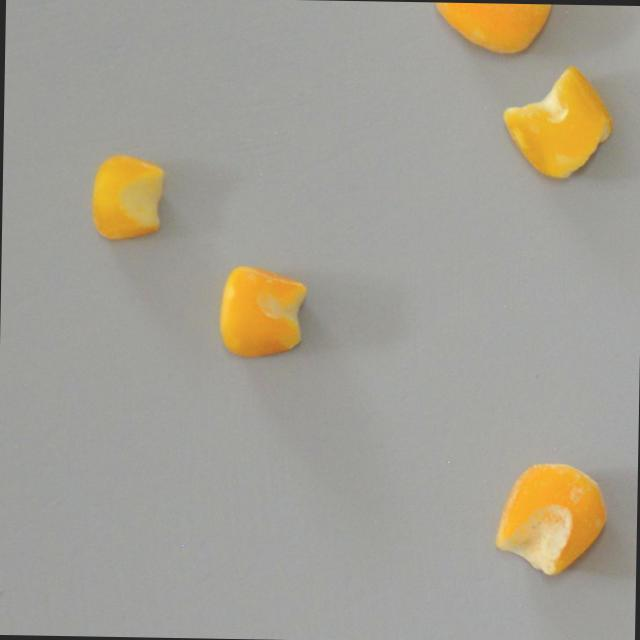dañado: (500, 60, 618, 186), (217, 262, 310, 361), (88, 150, 168, 246)
pelicula: (430, 2, 560, 58)
punto_negro: (493, 459, 613, 580)
